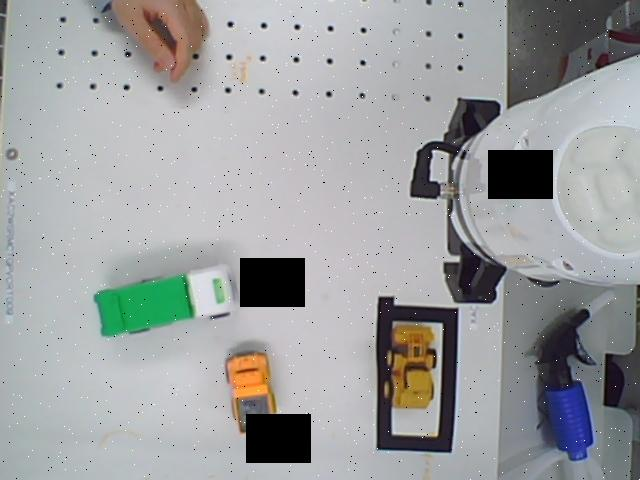Diesel car: (215, 346, 282, 439)
Electric car: (87, 256, 242, 338)
Gasoline car: (377, 320, 438, 414)
